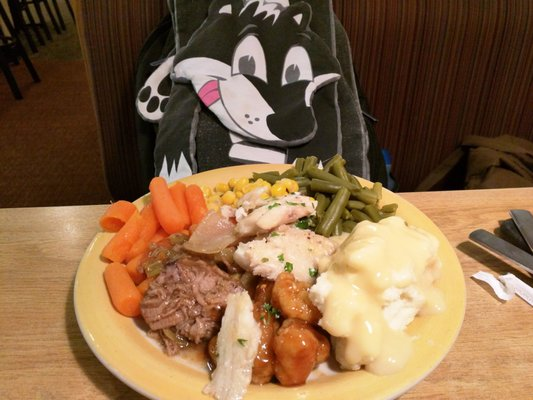sandwich: (468, 227, 533, 285)
